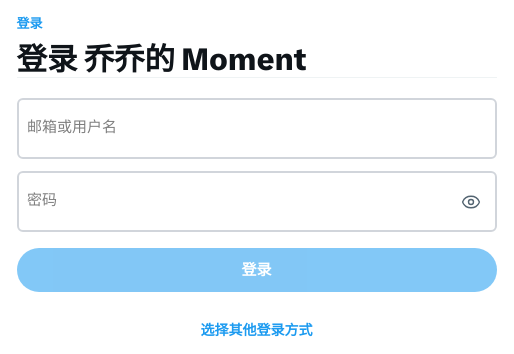
Test: owner login names who is signing in › does not steal navigation when sign-in finishes after leaving the form
Type "owner" into the field labelled "邮箱或用户名" at (256, 129), box [18,100,494,157]
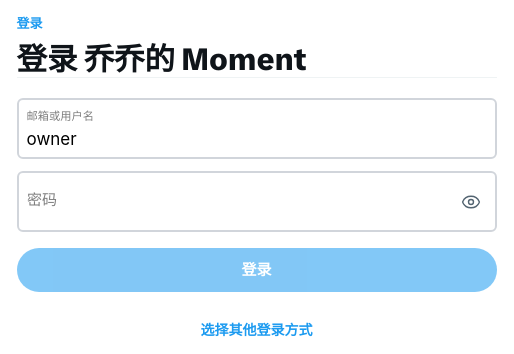
Type "password" into the password field labelled "密码" at (256, 202), box [18,173,494,230]
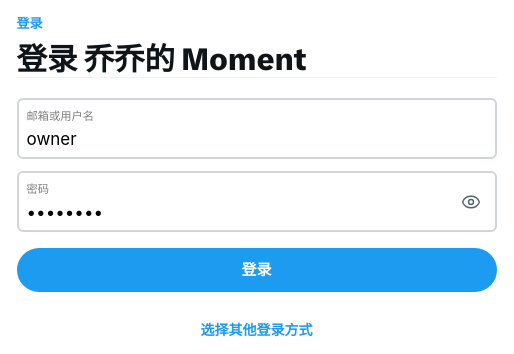
Click the button "登录" at (256, 270), box [16,248,496,292]
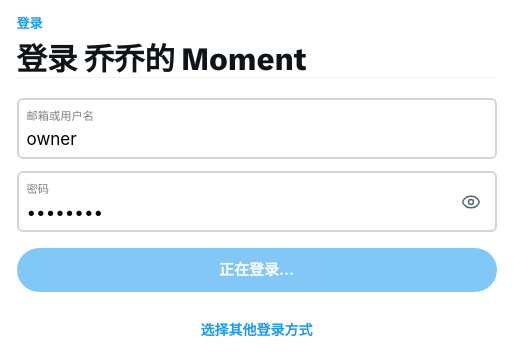
Expected: the button "正在登录…" is disabled, [16,248,496,292]
